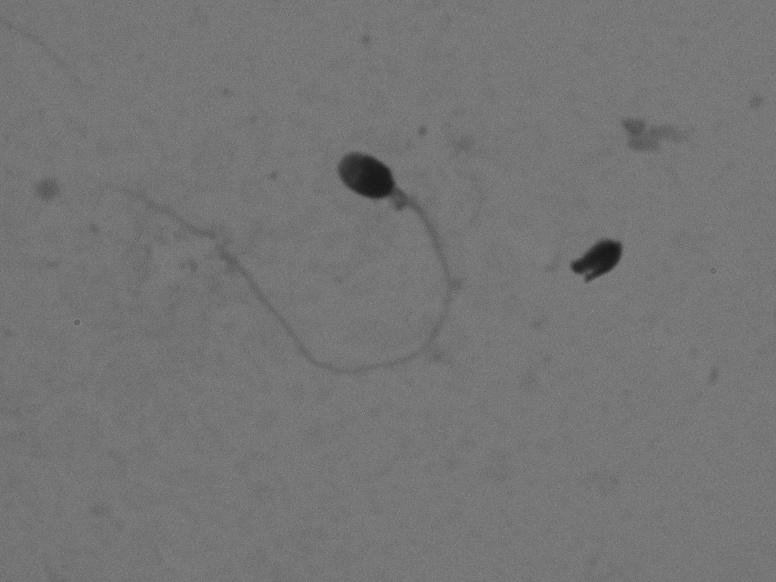Abnormal: (88, 139, 509, 388)
